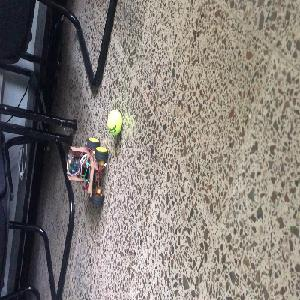Ball: (106, 109, 122, 136)
Robot: (66, 137, 107, 208)
